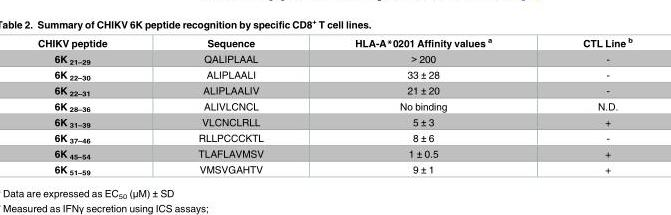table: (36, 36, 631, 175)
table column: (308, 36, 536, 175), (152, 36, 308, 175), (36, 36, 152, 175), (536, 36, 631, 175)
table column header: (36, 36, 631, 50)
table row: (36, 82, 631, 99), (36, 50, 631, 66), (36, 66, 631, 82), (36, 114, 631, 130), (36, 145, 631, 161), (36, 99, 631, 114), (36, 130, 631, 145), (36, 36, 631, 50), (36, 161, 631, 175)
